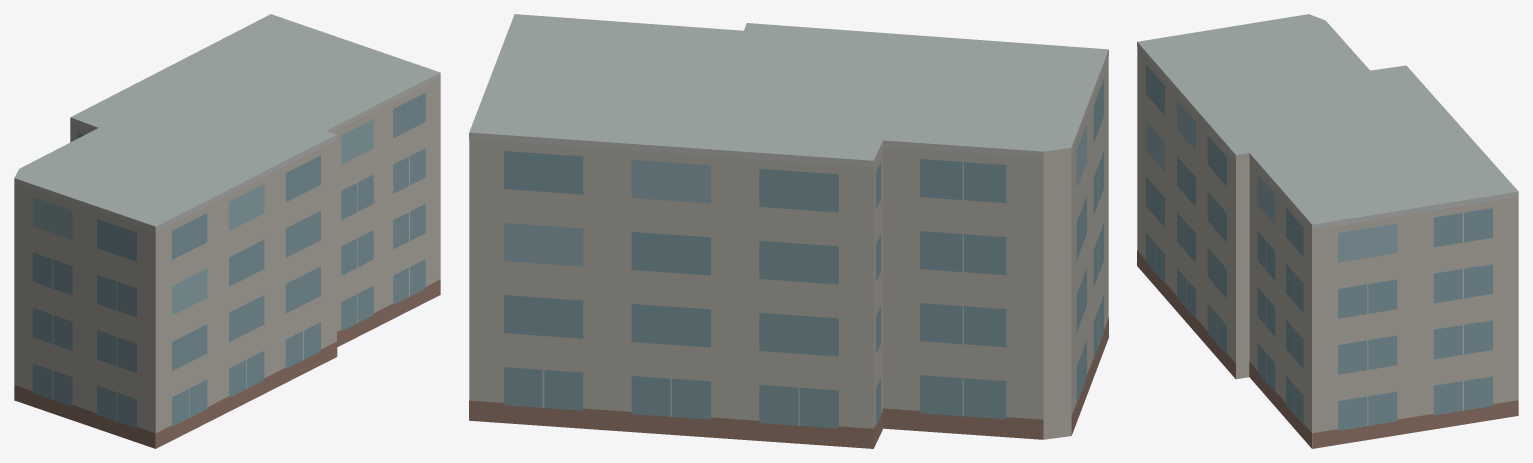
The model's file is survey-upis-32928577.glb.
The picture shows the model from 3 angles, left to right: view 1: azimuth 30°, elevation 25°; view 2: azimuth 150°, elevation 25°; view 3: azimuth 270°, elevation 25°; orthographic projection. The views are drawn at different scales.
Visible parts, largest first — view 1: survey-upis-32928577.tmp; view 2: survey-upis-32928577.tmp; view 3: survey-upis-32928577.tmp.
Boxes of the visible parts, <box> form: survey-upis-32928577.tmp: <box>14,14,440,448</box>; survey-upis-32928577.tmp: <box>469,14,1108,448</box>; survey-upis-32928577.tmp: <box>1137,14,1518,448</box>.
Size of the model in its own units: 20.97 by 10.4 by 16.05.
